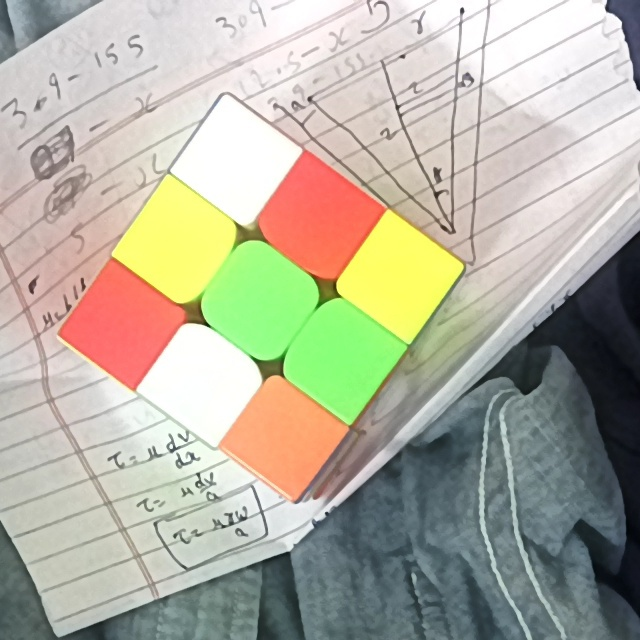tile: (282, 186, 354, 254), (145, 209, 215, 277), (223, 267, 293, 334), (365, 244, 435, 310), (89, 288, 157, 353), (253, 401, 318, 468), (201, 130, 268, 194), (307, 328, 373, 392), (172, 348, 233, 417)
